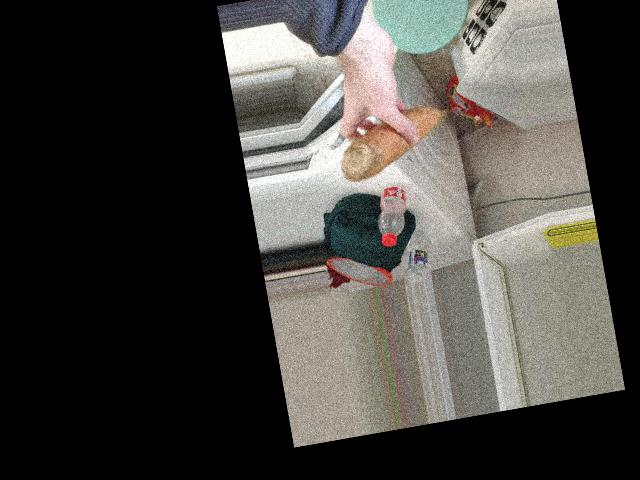sweet_potato: (338, 94, 448, 186)
